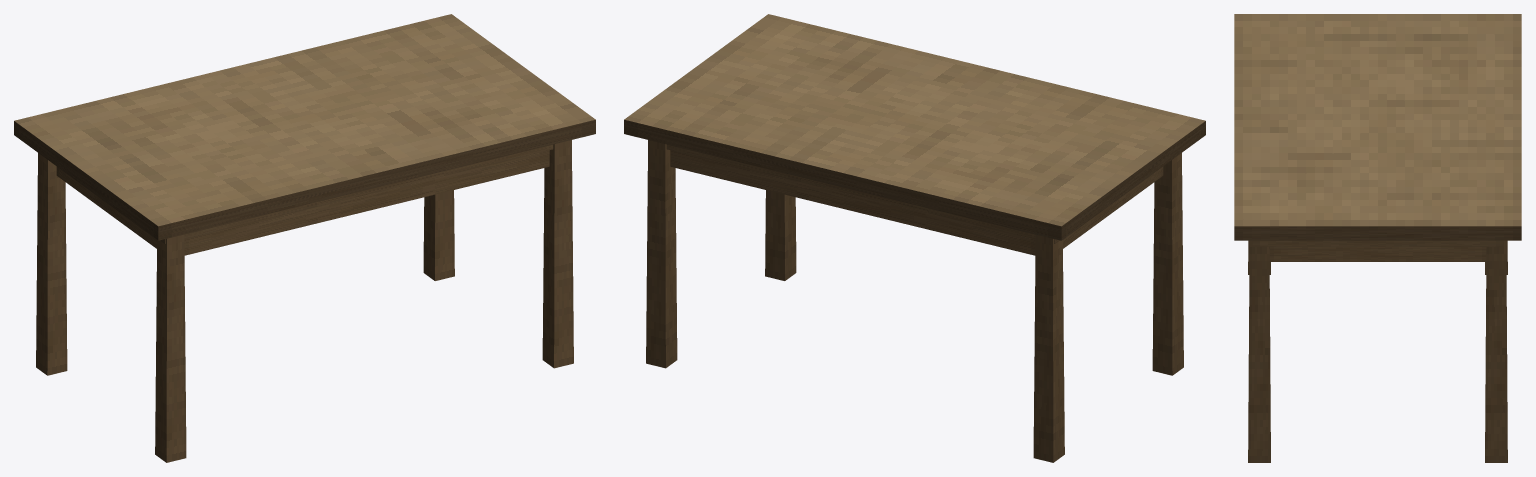
Rendered from table.glb.
3 views of the same model, side by side, from view 1: azimuth 30°, elevation 25°; view 2: azimuth 150°, elevation 25°; view 3: azimuth 270°, elevation 25° (orthographic).
Visible parts, largest first — view 1: core_table; view 2: core_table; view 3: core_table.
Part boxes in pixels (x1,y1,x2,y2): core_table: (14,14,595,462); core_table: (624,14,1205,462); core_table: (1234,14,1521,462).
Bounding box in the file's own units: 1.4 × 0.75 × 0.8.
Materials: 1 (1 with a texture image).
